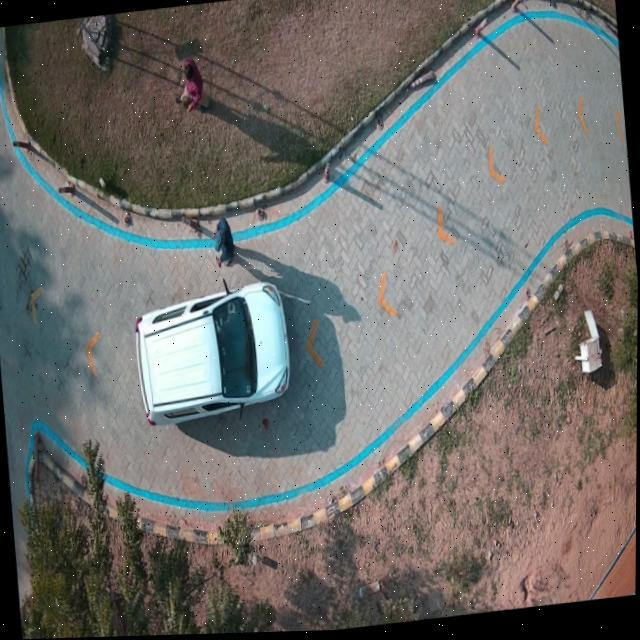car: (136, 287, 289, 427)
